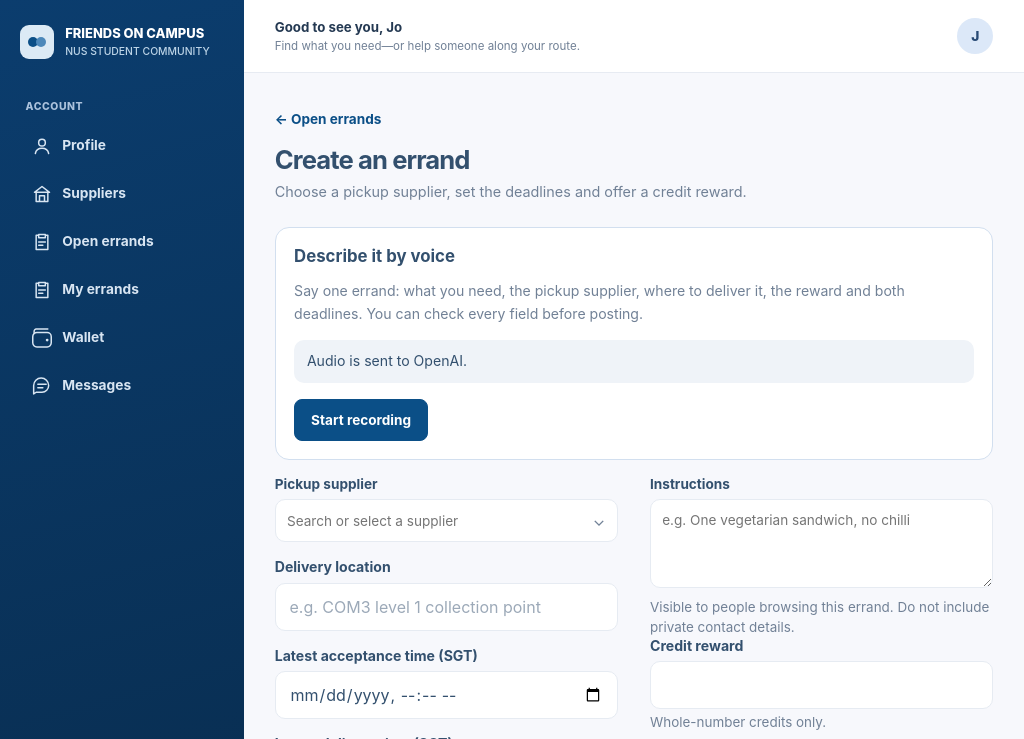
Scenario: Voice drafting on the errand form › fills the ordinary form for review and creates nothing (N3F3.1.1, N3F3.1.3)
What coordinates should you click on to do the following:
click the button "Start recording"
I would click on:
 (361, 420)
Its box is x1=294 y1=399 x2=428 y2=441.
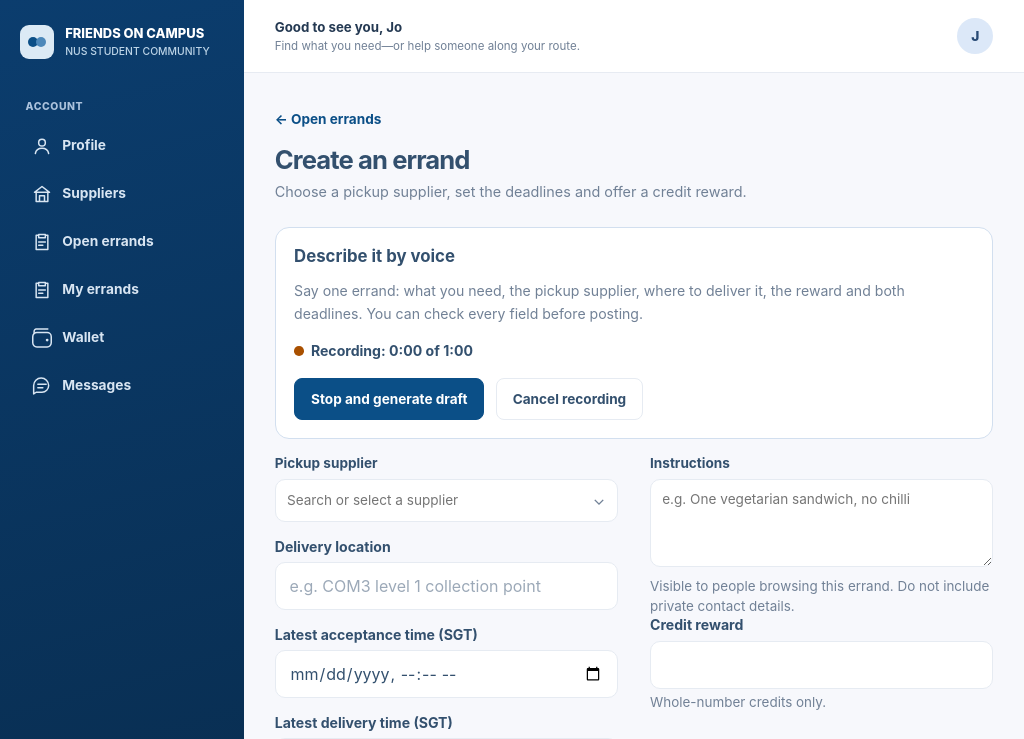
What coordinates should you click on to do the following:
click the button "Stop and generate draft"
I would click on:
 (389, 399)
Its box is x1=294 y1=378 x2=484 y2=420.
(page scrolled)
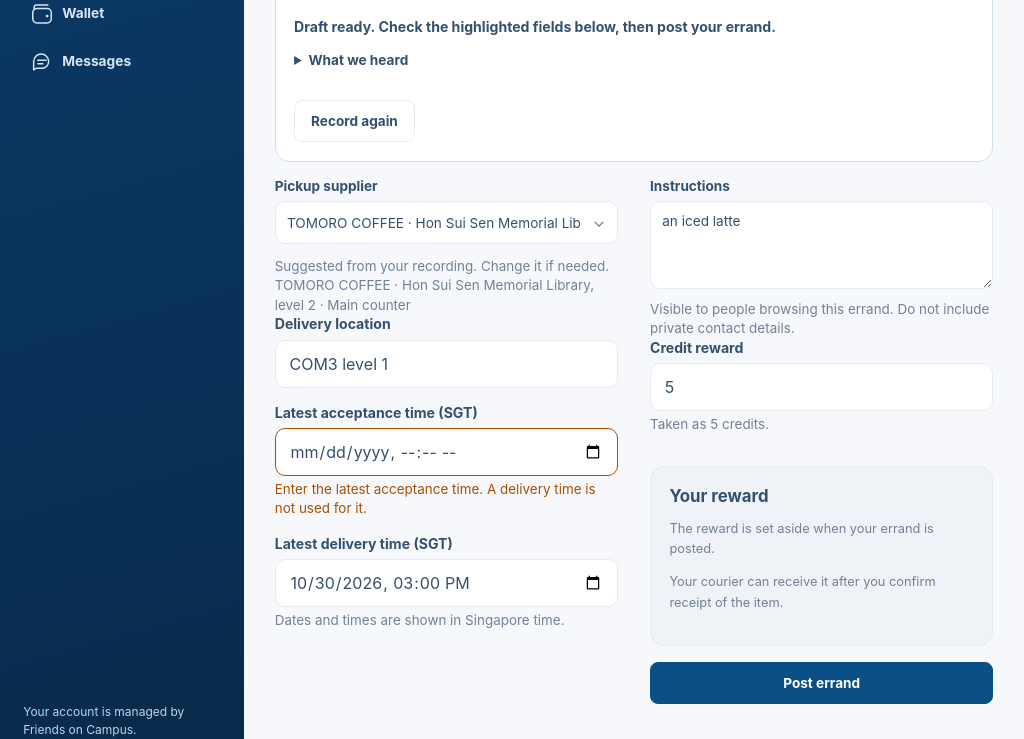
Expected: the text box labelled "Instructions" holds "an iced latte", x1=650 y1=201 x2=993 y2=290
Expected: the field labelled "Delivery location" holds "COM3 level 1", x1=275 y1=340 x2=618 y2=388
Expected: the number field labelled "Credit reward" holds "5", x1=650 y1=363 x2=993 y2=411
